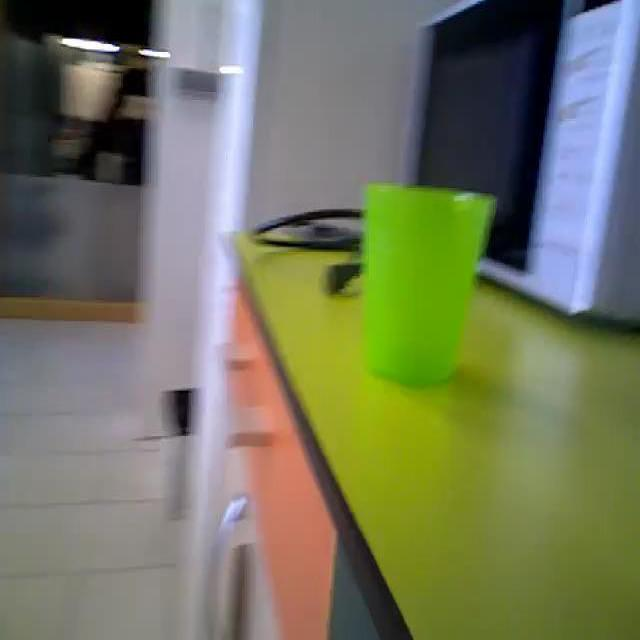cup: (364, 185, 496, 395)
